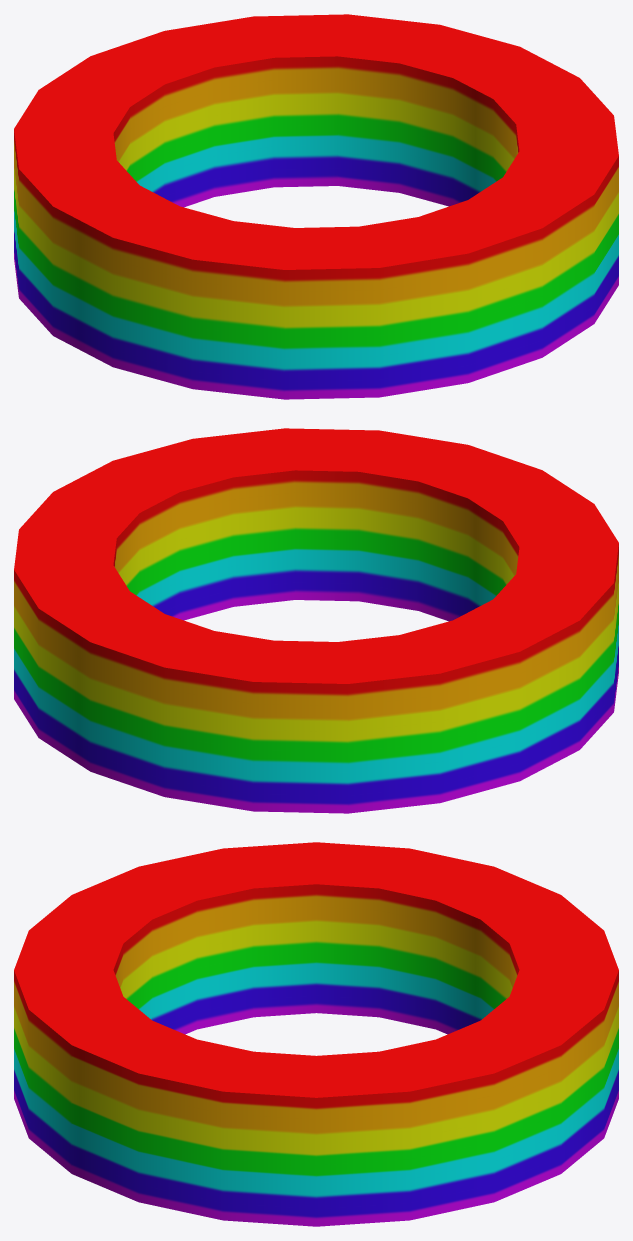
File: RainbowWall.fbx
The picture shows the model from 3 angles, top to bottom: view 1: azimuth 30°, elevation 25°; view 2: azimuth 150°, elevation 25°; view 3: azimuth 270°, elevation 25°; orthographic projection.
Parts seen in each view (by area): view 1: polySurface1; view 2: polySurface1; view 3: polySurface1.
Boxes of the visible parts, bbox=[...] form: polySurface1: bbox=[14, 14, 618, 399]; polySurface1: bbox=[14, 428, 618, 813]; polySurface1: bbox=[14, 842, 618, 1226].
Size of the model in its own units: 15.95 by 3.75 by 15.95.
Materials: 1 (1 with a texture image).
